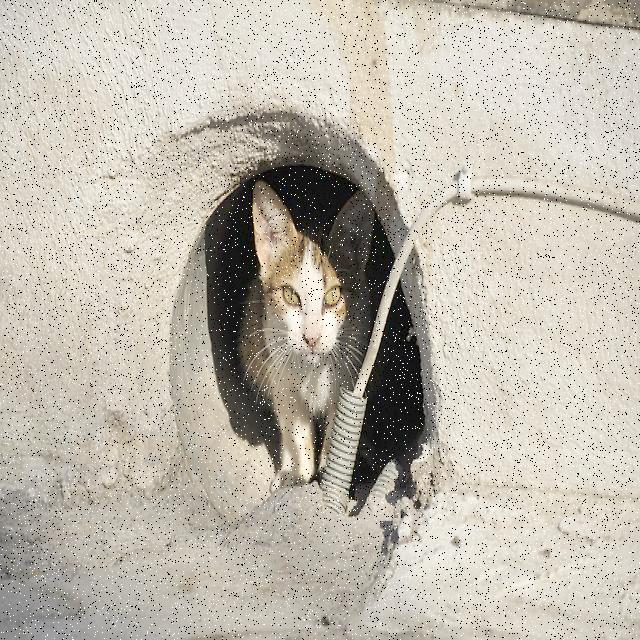cat: (240, 181, 374, 490)
